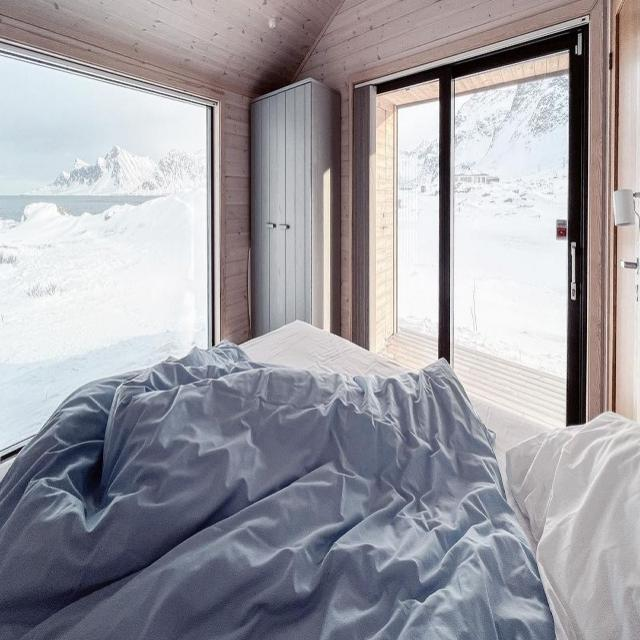bed: (0, 321, 640, 640)
